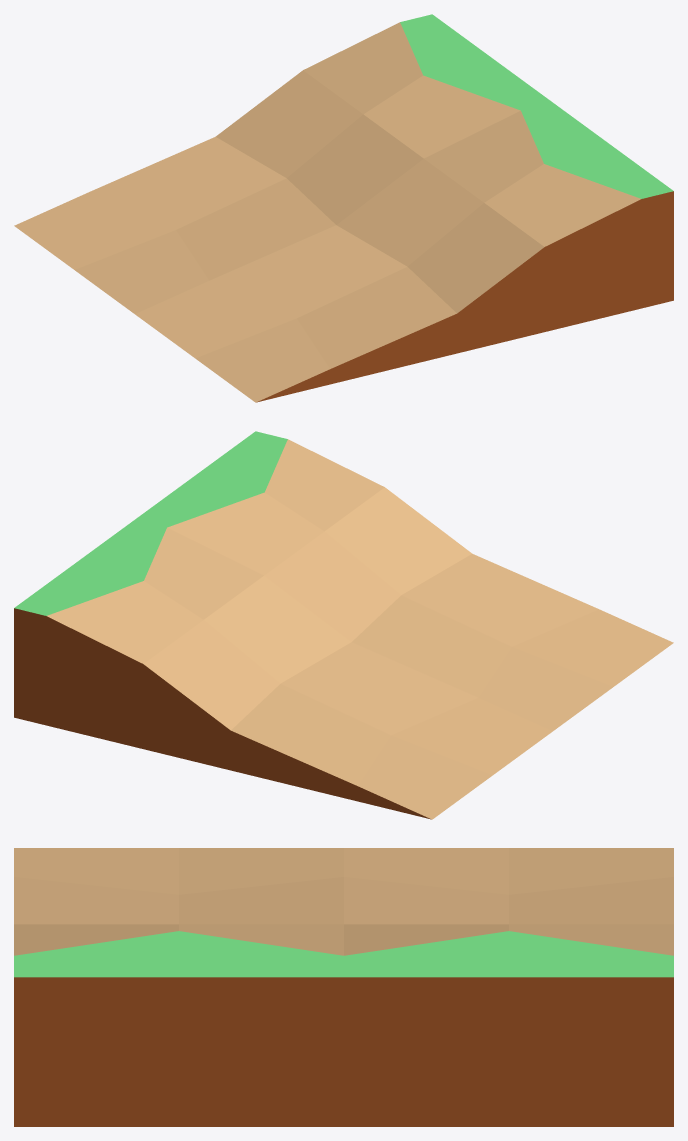
File: beach.fbx
3 views of the same model, one above another, from view 1: azimuth 30°, elevation 25°; view 2: azimuth 150°, elevation 25°; view 3: azimuth 270°, elevation 25° (orthographic). The views are drawn at different scales.
Parts seen in each view (by area): view 1: beach; view 2: beach; view 3: beach.
Boxes of the visible parts, x1,y1,x2,y2 form: beach: (14, 14, 673, 402); beach: (14, 431, 673, 819); beach: (14, 848, 673, 1126).
Size of the model in its own units: 200 by 50 by 200.
